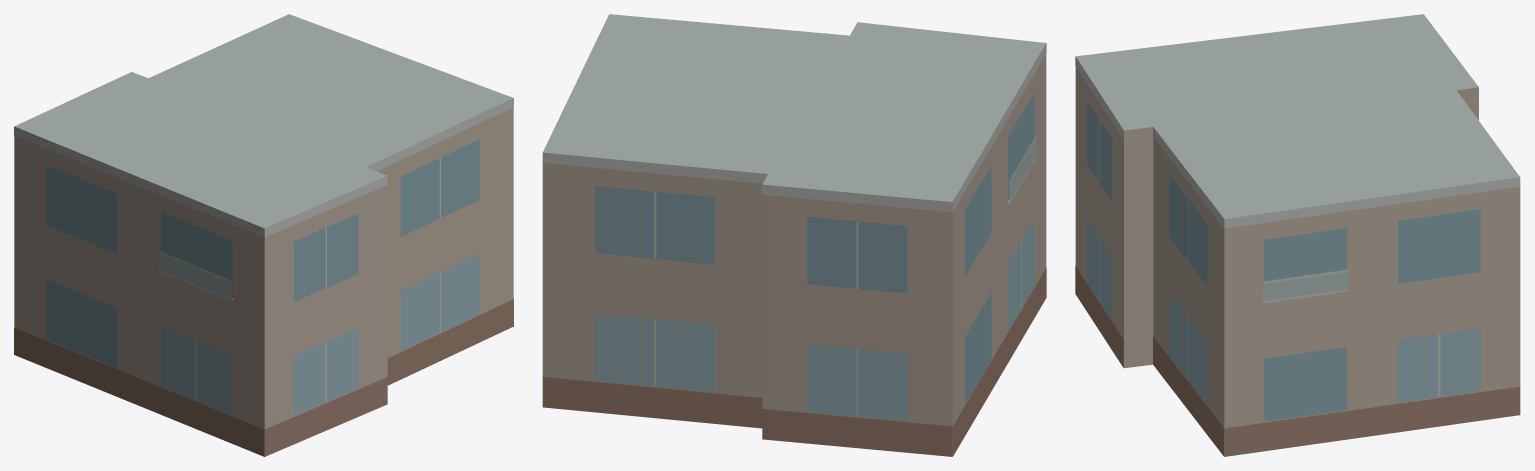
The model's file is survey-upis-32620369.glb.
The picture shows the model from 3 angles, left to right: view 1: azimuth 30°, elevation 25°; view 2: azimuth 150°, elevation 25°; view 3: azimuth 270°, elevation 25°; orthographic projection. The views are drawn at different scales.
Parts seen in each view (by area): view 1: survey-upis-32620369.tmp; view 2: survey-upis-32620369.tmp; view 3: survey-upis-32620369.tmp.
Part boxes in pixels (x1,y1,x2,y2): survey-upis-32620369.tmp: (14,14,513,456); survey-upis-32620369.tmp: (542,14,1046,456); survey-upis-32620369.tmp: (1075,14,1520,456).
Bounding box in the file's own units: 11.3 × 6.1 × 10.35.
